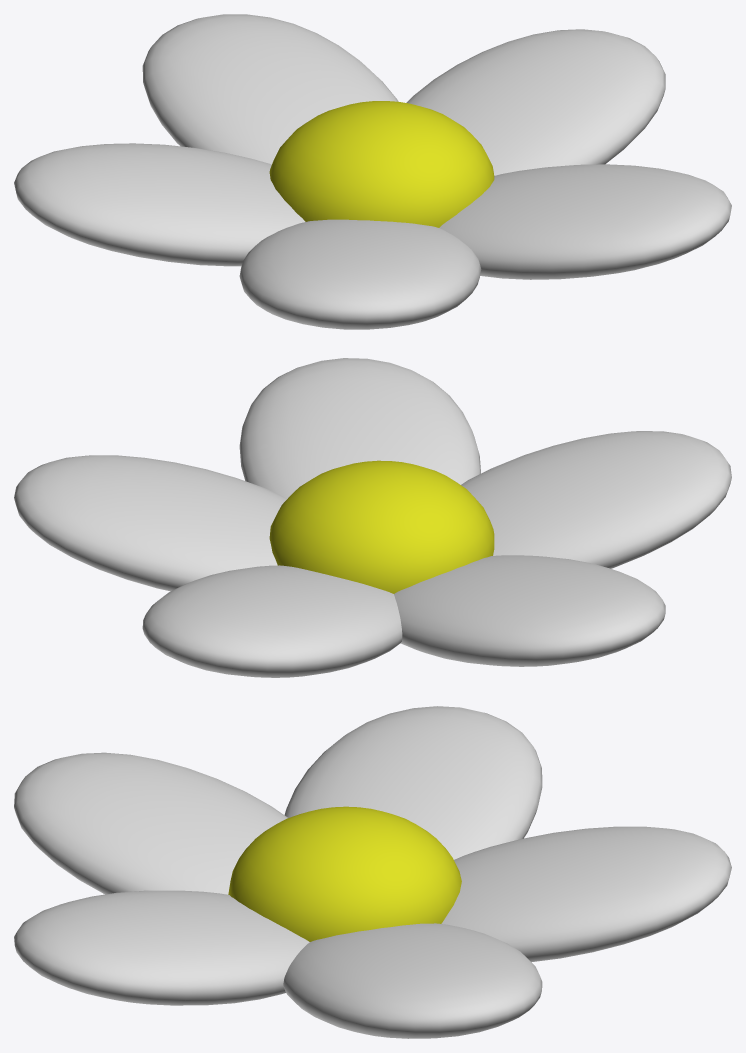
The model's file is flower.fbx.
The picture shows the model from 3 angles, top to bottom: view 1: azimuth 30°, elevation 25°; view 2: azimuth 150°, elevation 25°; view 3: azimuth 270°, elevation 25°; orthographic projection. The views are drawn at different scales.
Visible parts, largest first — view 1: hana; view 2: hana; view 3: hana.
Boxes of the visible parts, x1,y1,x2,y2 form: hana: (14,14,731,329); hana: (14,358,731,677); hana: (14,706,731,1038).
Size of the model in its own units: 16.46 by 3.55 by 15.89.
